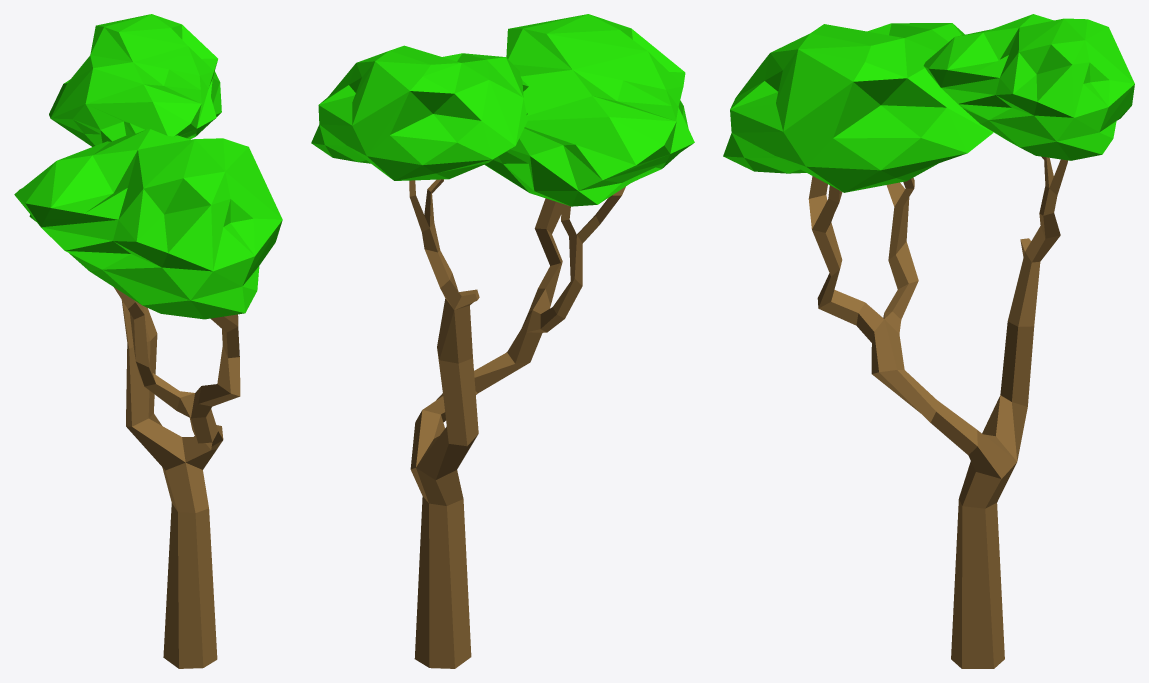
File: Tree.fbx
The picture shows the model from 3 angles, left to right: view 1: azimuth 30°, elevation 25°; view 2: azimuth 150°, elevation 25°; view 3: azimuth 270°, elevation 25°; orthographic projection. The views are drawn at different scales.
Parts seen in each view (by area): view 1: Tree; view 2: Tree; view 3: Tree.
Boxes of the visible parts, bbox=[...] form: Tree: bbox=[14, 14, 282, 668]; Tree: bbox=[311, 14, 694, 668]; Tree: bbox=[723, 14, 1134, 668].
Bounding box in the file's own units: 187 × 421 × 251.
